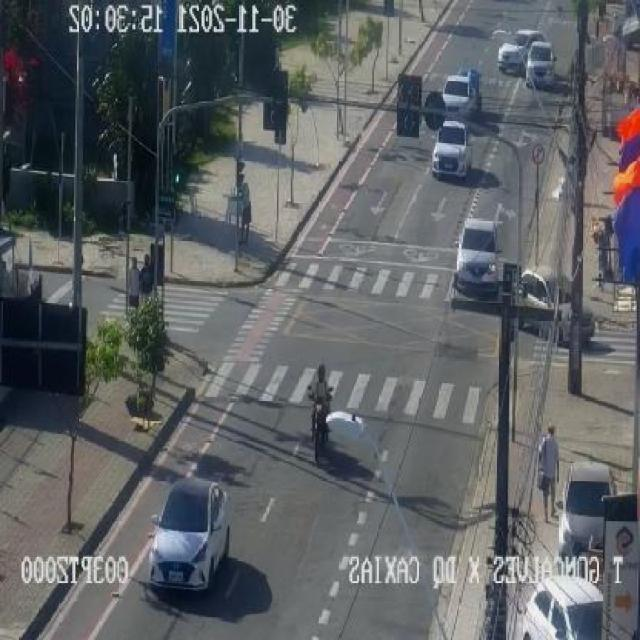Car: (138, 479, 235, 599), (513, 568, 608, 638), (512, 266, 594, 342), (555, 461, 617, 556), (452, 219, 505, 312), (428, 119, 472, 178), (516, 38, 566, 88), (435, 68, 479, 118), (498, 27, 541, 72)
Cycle: (298, 357, 338, 449)
